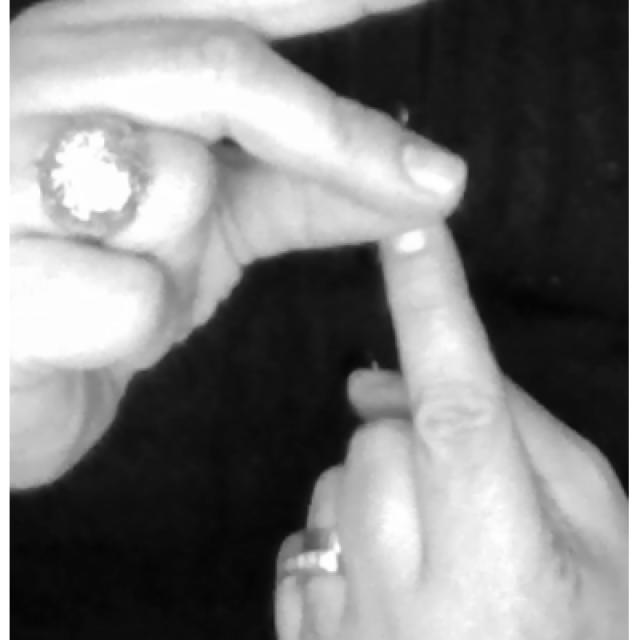I-: (9, 17, 627, 640)
